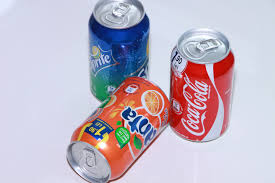fanta: (72, 82, 169, 180)
